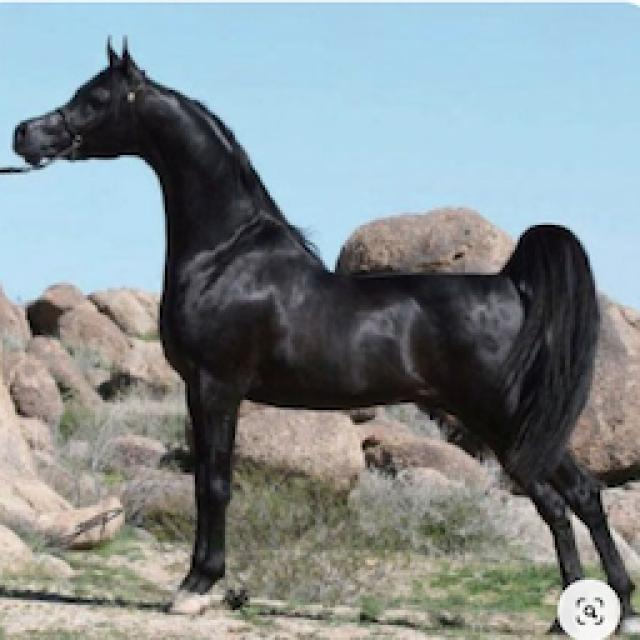Horse: (0, 32, 638, 638)
